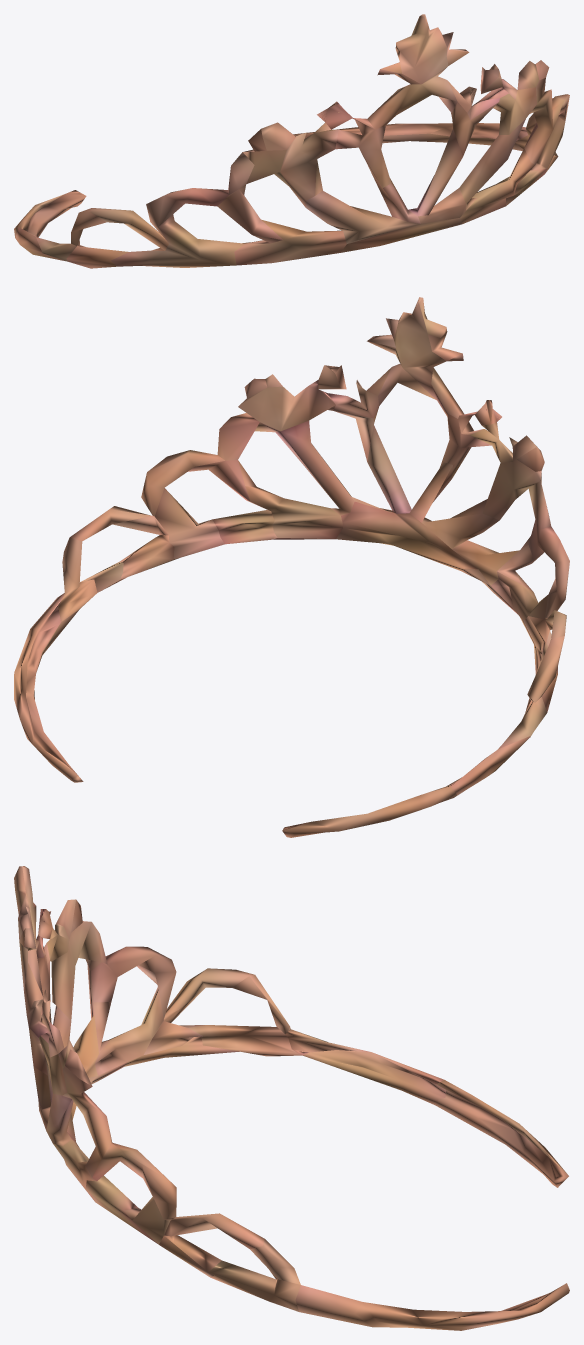
3 views of the same model, one above another, from view 1: azimuth 30°, elevation 25°; view 2: azimuth 150°, elevation 25°; view 3: azimuth 270°, elevation 25° (orthographic). The views are drawn at different scales.
Parts seen in each view (by area): view 1: Pink-Tiara-15; view 2: Pink-Tiara-15; view 3: Pink-Tiara-15.
Boxes of the visible parts, x1,y1,x2,y2 form: Pink-Tiara-15: (14, 14, 569, 268); Pink-Tiara-15: (14, 297, 569, 837); Pink-Tiara-15: (14, 866, 569, 1330).
Size of the model in its own units: 0.2643 by 0.1744 by 0.2314.
1 material, 1 textured.
